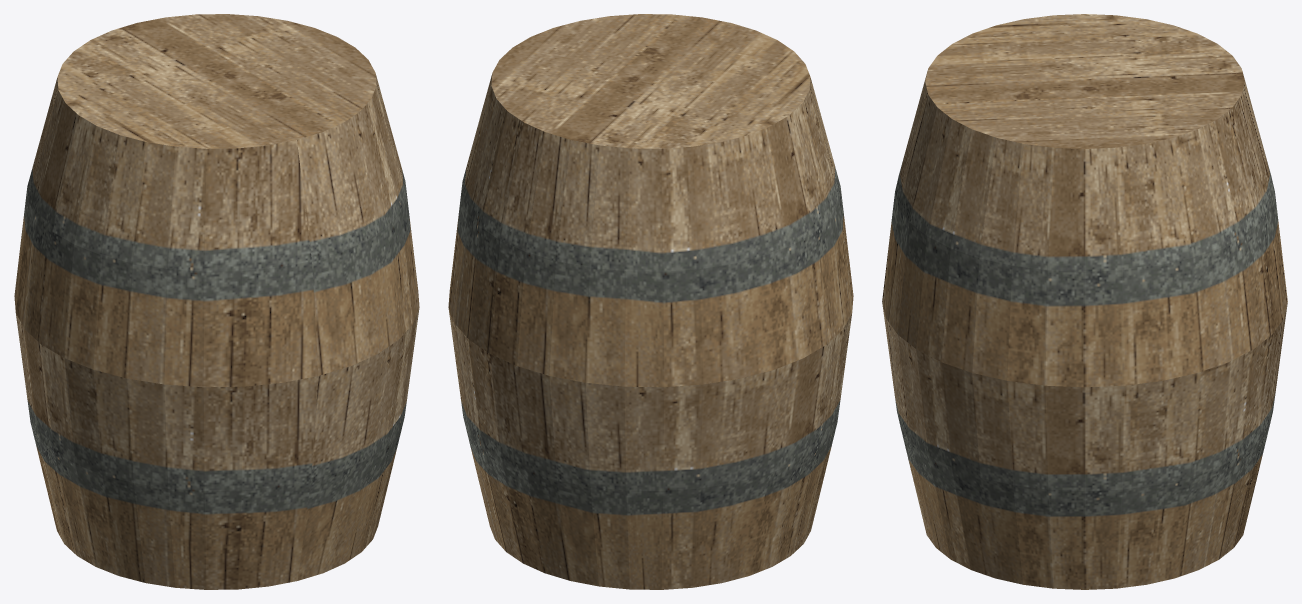
The model's file is sod.fbx.
3 renders of one model, left to right at view 1: azimuth 30°, elevation 25°; view 2: azimuth 150°, elevation 25°; view 3: azimuth 270°, elevation 25°, orthographic.
Visible parts, largest first — view 1: Cylinder; view 2: Cylinder; view 3: Cylinder.
Boxes of the visible parts, <box> form: Cylinder: <box>14,14,419,589</box>; Cylinder: <box>448,14,853,589</box>; Cylinder: <box>882,14,1287,589</box>.
Size of the model in its own units: 200 by 239 by 200.
Materials: 1 (1 with a texture image).
